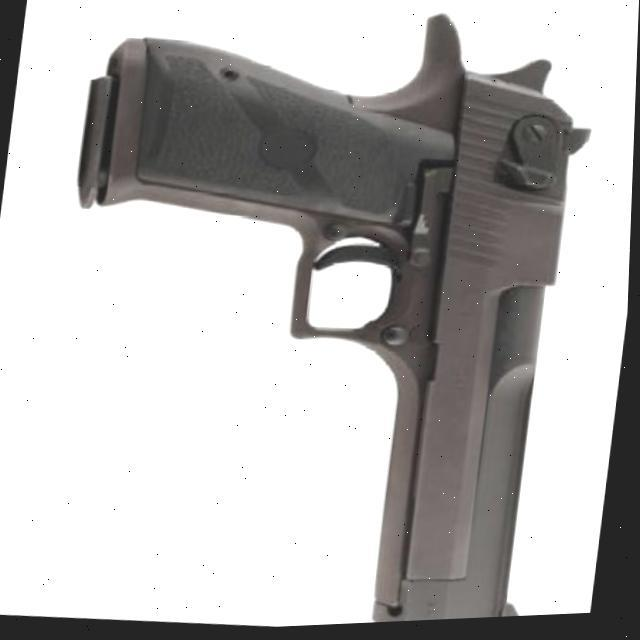gun: (15, 0, 600, 639)
